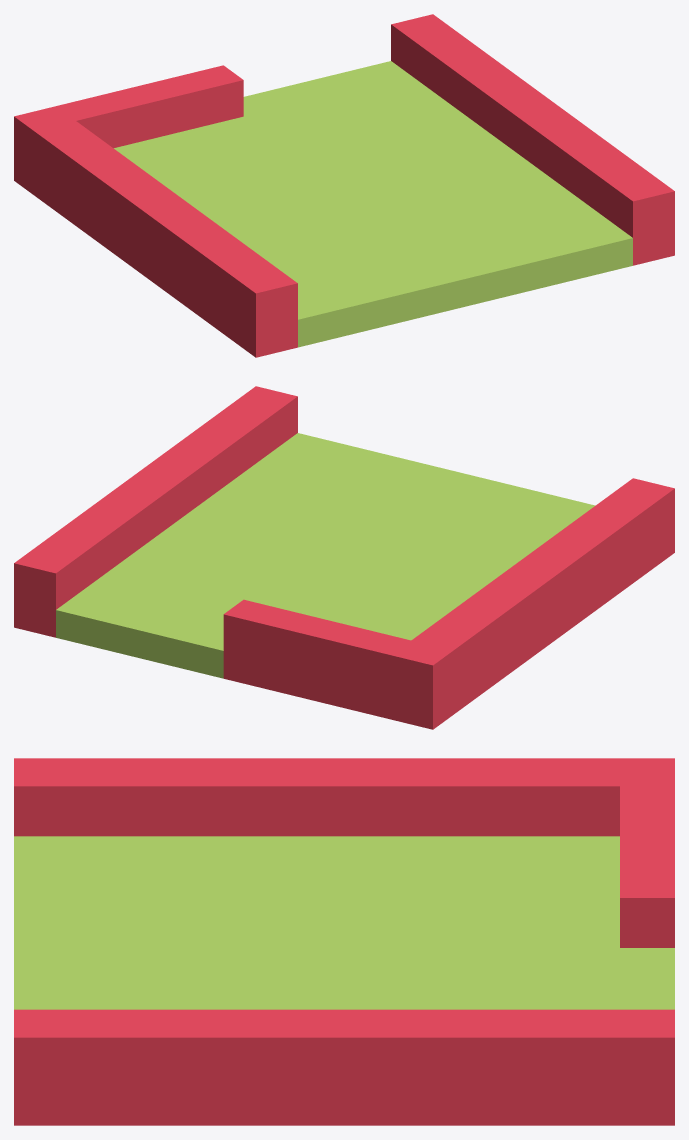
The model's file is wallRight.fbx.
3 renders of one model, top to bottom at view 1: azimuth 30°, elevation 25°; view 2: azimuth 150°, elevation 25°; view 3: azimuth 270°, elevation 25°, orthographic. The views are drawn at different scales.
Parts seen in each view (by area): view 1: wallRight; view 2: wallRight; view 3: wallRight.
Part boxes in pixels (x1,y1,x2,y2): wallRight: [14, 14, 674, 357]; wallRight: [14, 386, 674, 729]; wallRight: [14, 758, 674, 1125].
Size of the model in its own units: 10 by 1.47 by 10.
